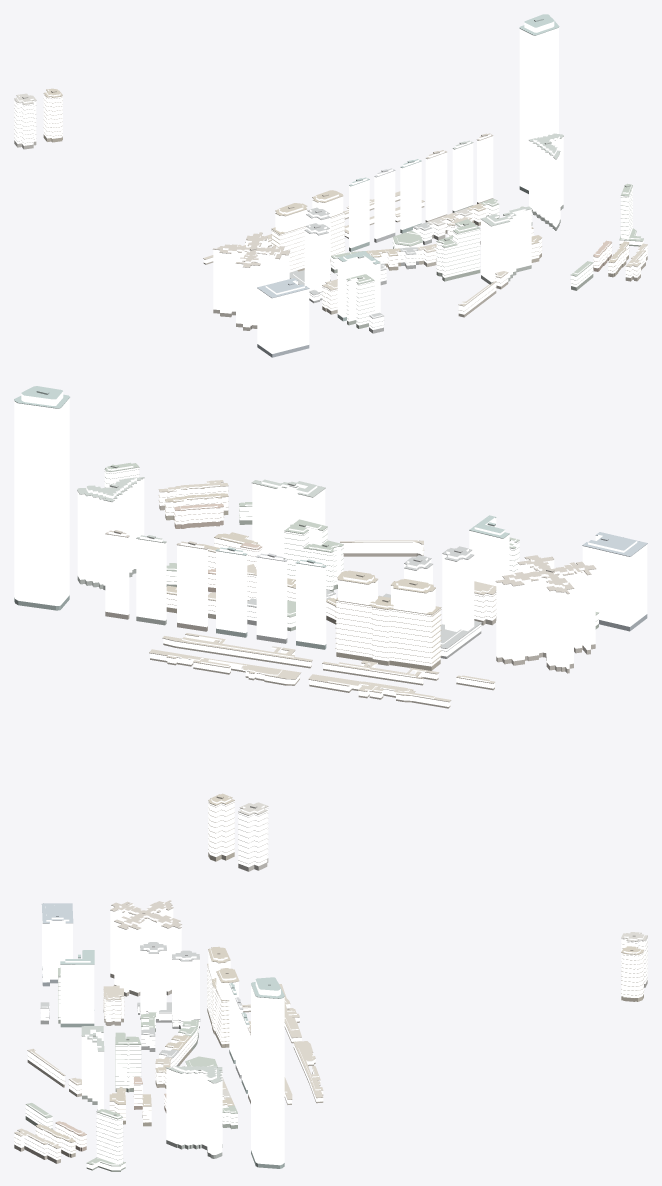
File: buildings-10_1-fine.glb
The picture shows the model from 3 angles, top to bottom: view 1: azimuth 30°, elevation 25°; view 2: azimuth 150°, elevation 25°; view 3: azimuth 270°, elevation 25°; orthographic projection. The views are drawn at different scales.
Visible parts, largest first — view 1: block_10_1_office, block_10_1_residential, block_10_1_roof, block_10_1_darkglass, block_10_1_concrete, block_10_1_steel; view 2: block_10_1_office, block_10_1_residential, block_10_1_roof, block_10_1_darkglass, block_10_1_concrete, block_10_1_steel; view 3: block_10_1_office, block_10_1_residential, block_10_1_roof, block_10_1_darkglass, block_10_1_concrete, block_10_1_steel.
Boxes of the visible parts, x1,y1,x2,y2 form: block_10_1_office: [213, 21, 563, 353]; block_10_1_residential: [14, 90, 647, 329]; block_10_1_roof: [14, 14, 647, 353]; block_10_1_darkglass: [14, 134, 647, 357]; block_10_1_concrete: [14, 90, 647, 327]; block_10_1_steel: [213, 27, 563, 298]; block_10_1_office: [14, 391, 647, 668]; block_10_1_residential: [104, 466, 598, 867]; block_10_1_roof: [14, 386, 647, 863]; block_10_1_darkglass: [14, 505, 647, 871]; block_10_1_concrete: [104, 467, 598, 863]; block_10_1_steel: [14, 397, 647, 594]; block_10_1_office: [42, 901, 284, 1165]; block_10_1_residential: [14, 933, 647, 1170]; block_10_1_roof: [14, 900, 647, 1168]; block_10_1_darkglass: [14, 968, 647, 1171]; block_10_1_concrete: [14, 933, 647, 1166]; block_10_1_steel: [42, 901, 284, 1083].
Bounding box in the file's own units: 404 × 163 × 527.
